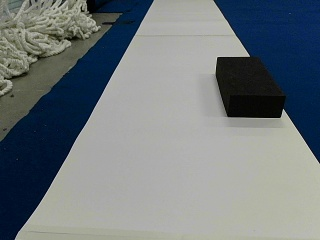block: (215, 56, 285, 117)
